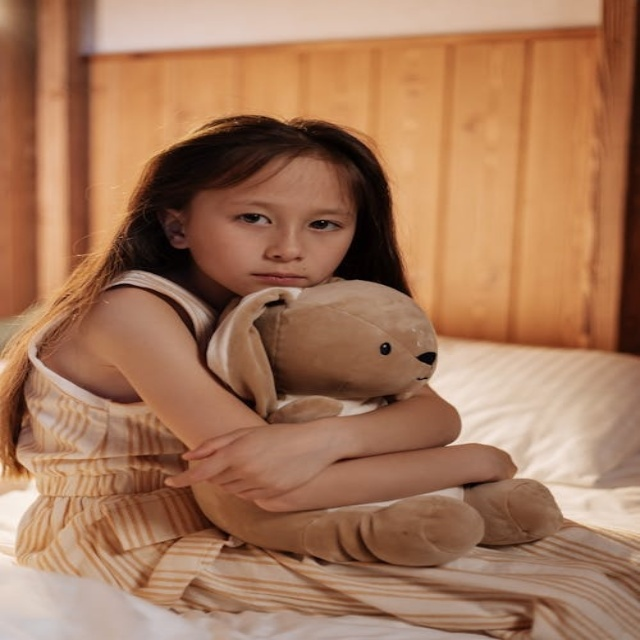Sin_gafas: (211, 196, 355, 239)
Sin_guantes: (164, 421, 325, 501)
Sin_mascara: (221, 260, 319, 292)
